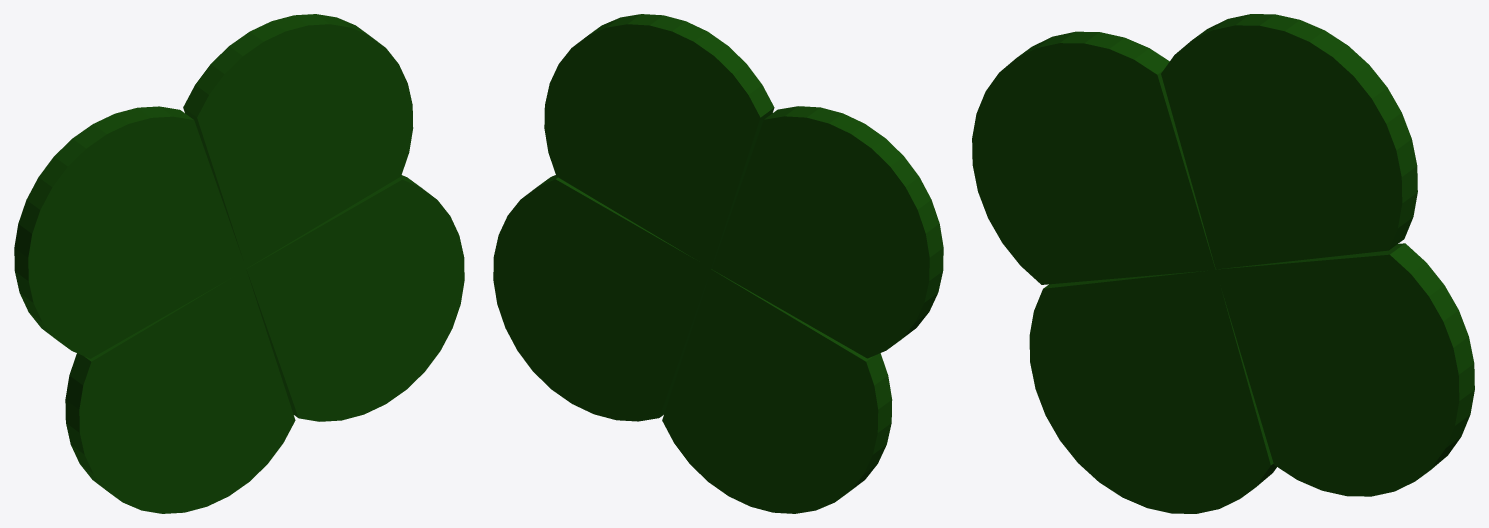
File: StatusChanger_Luck_Obj.fbx
3 views of the same model, side by side, from view 1: azimuth 30°, elevation 25°; view 2: azimuth 150°, elevation 25°; view 3: azimuth 330°, elevation 25° (orthographic). The views are drawn at different scales.
Parts seen in each view (by area): view 1: 円柱; view 2: 円柱; view 3: 円柱.
Boxes of the visible parts, <box> form: 円柱: <box>14,14,464,513</box>; 円柱: <box>493,14,943,513</box>; 円柱: <box>972,14,1474,513</box>.
Size of the model in its own units: 3.81 by 3.82 by 0.2141.
